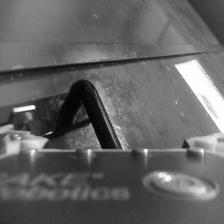Door Handle: (62, 77, 128, 149)
Lock: (8, 104, 44, 126)
